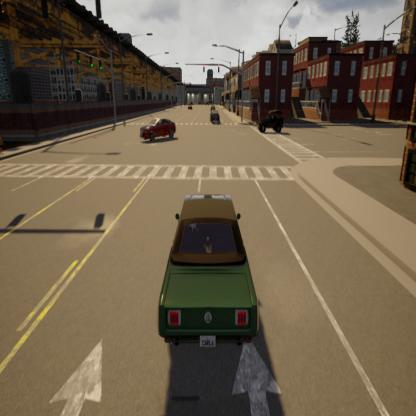Cars: (157, 194, 259, 350), (140, 118, 176, 142), (258, 110, 284, 135), (210, 108, 220, 126)
